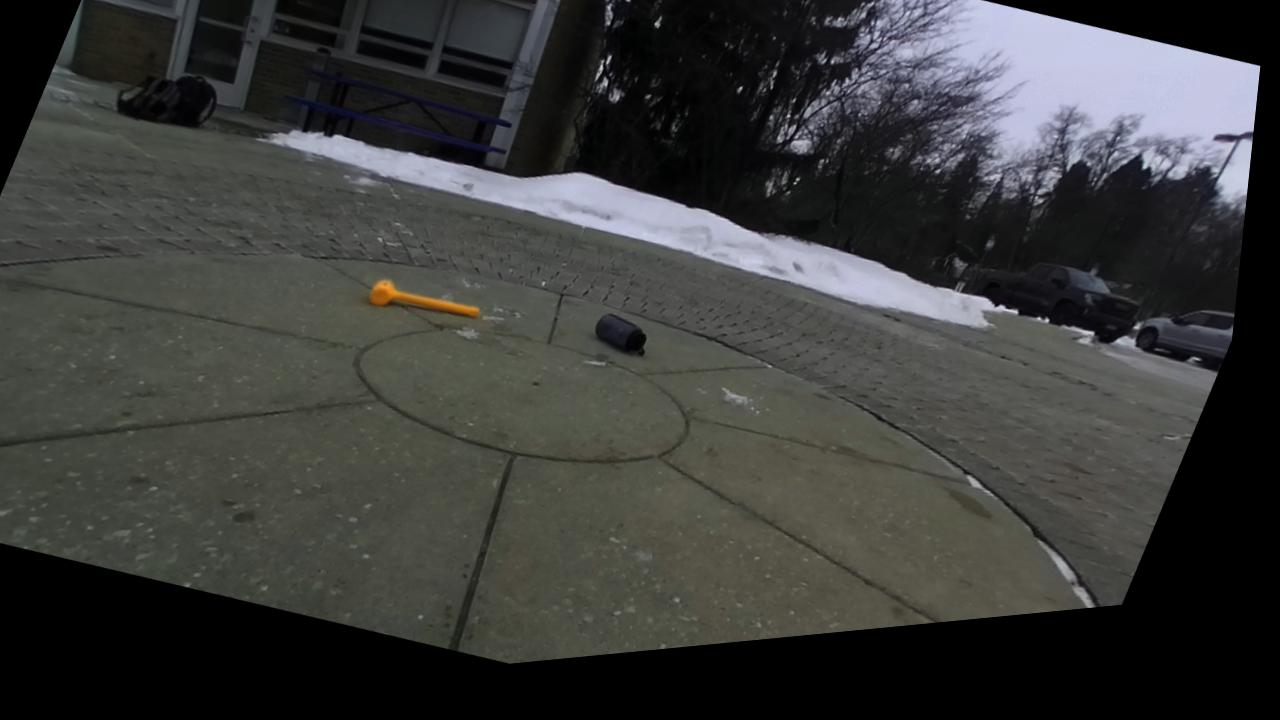bottle: (595, 314, 646, 354)
mallet: (369, 281, 477, 316)
